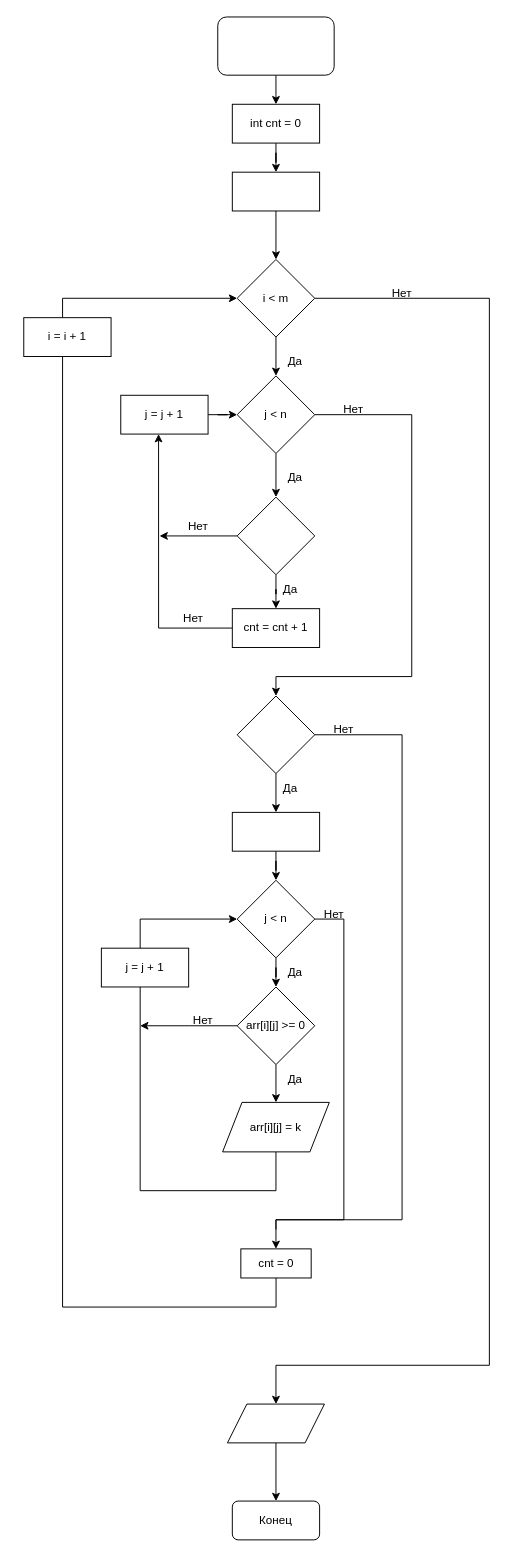
The diagram is 514 pixels wide and 1557 high, and some of its shapes have lost their labels. Each missing label, with the centre of its shape:
"arr[i][j] < 0" goes at pixel 275 535.
"cnt == k" goes at pixel 275 734.
"int i = 0 int j = 0" goes at pixel 275 191.
"int j = 0" goes at pixel 275 831.
"Return arr" goes at pixel 275 1423.
"Начало" goes at pixel 275 45.
